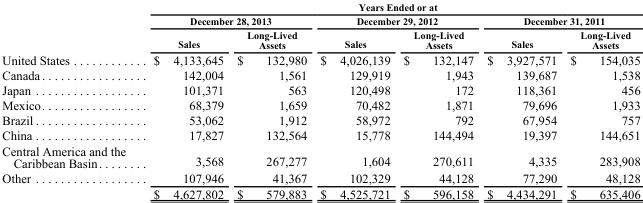table: (1, 1, 639, 200)
table column: (1, 1, 138, 200), (138, 1, 229, 200), (312, 1, 396, 200), (229, 1, 312, 200), (396, 1, 479, 200), (479, 1, 562, 200), (562, 1, 639, 200)
table column header: (1, 1, 639, 51)
table row: (1, 142, 639, 170), (1, 27, 639, 51), (1, 51, 639, 67), (1, 67, 639, 82), (1, 82, 639, 97), (1, 97, 639, 112), (1, 112, 639, 127), (1, 127, 639, 142), (1, 170, 639, 185), (1, 185, 639, 200), (1, 13, 639, 27), (1, 1, 639, 13)
table spanning cell: (138, 1, 639, 13), (138, 13, 312, 27), (312, 13, 479, 27), (479, 13, 639, 27)
